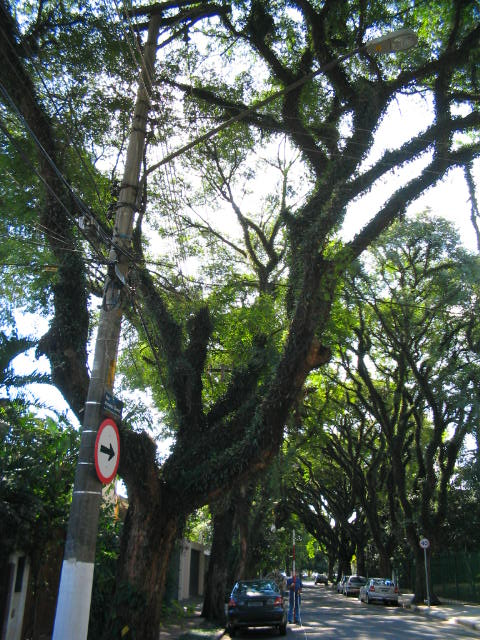stem: (405, 555, 444, 607)
stick: (286, 529, 300, 623)
tree: (331, 216, 480, 606)
